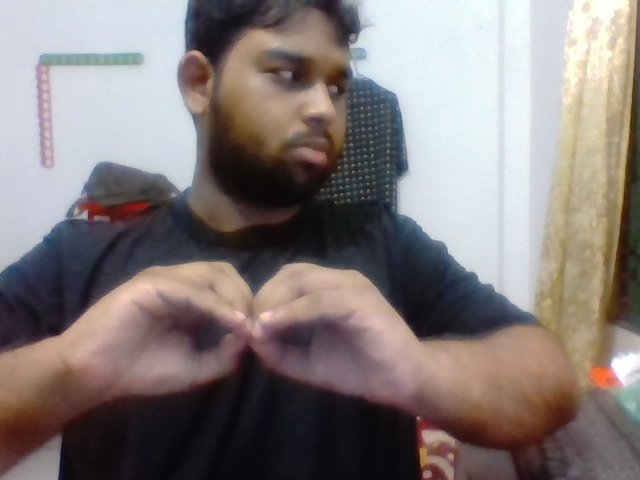B: (93, 248, 431, 421)
